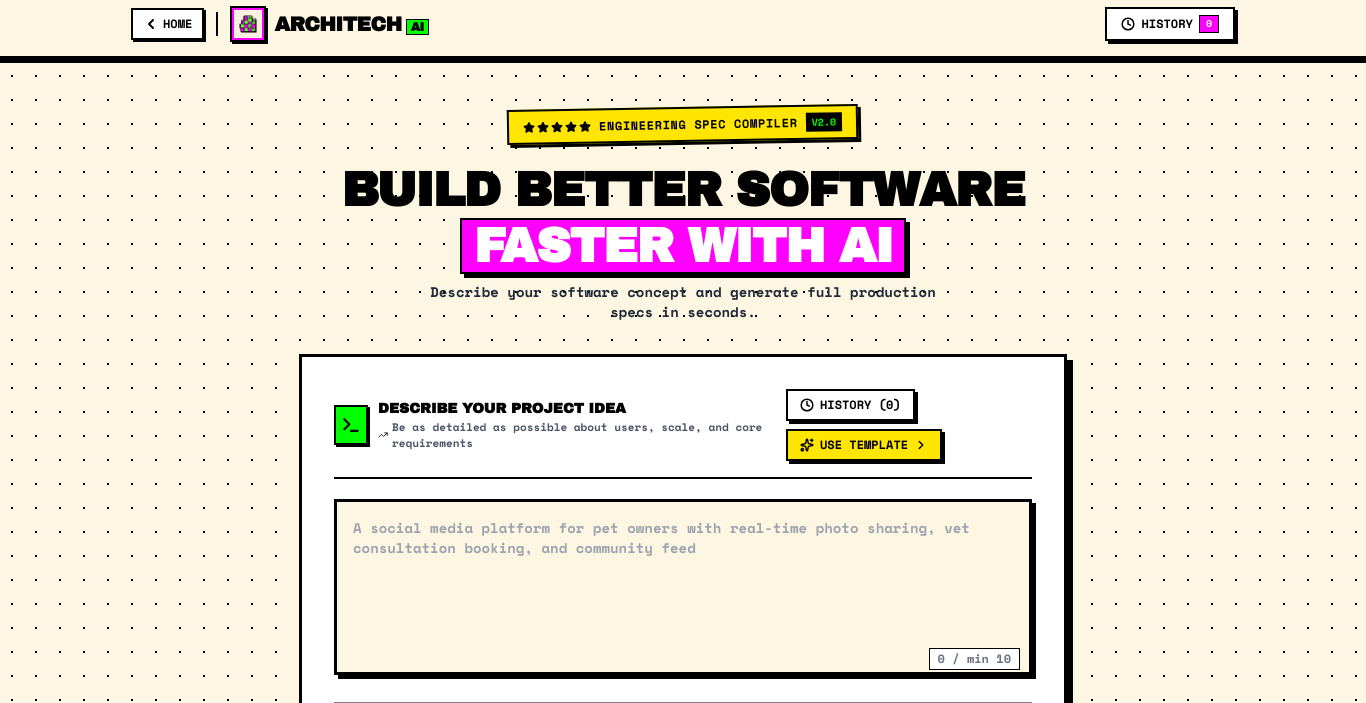
Home Page - Project Idea Input › Error Handling › should re-enable form after error
Replace the text in the text box with placeholder "social media platform" with "A valid project idea with enough characters" at [683, 587], box [334,499,1032,675]
(page scrolled)
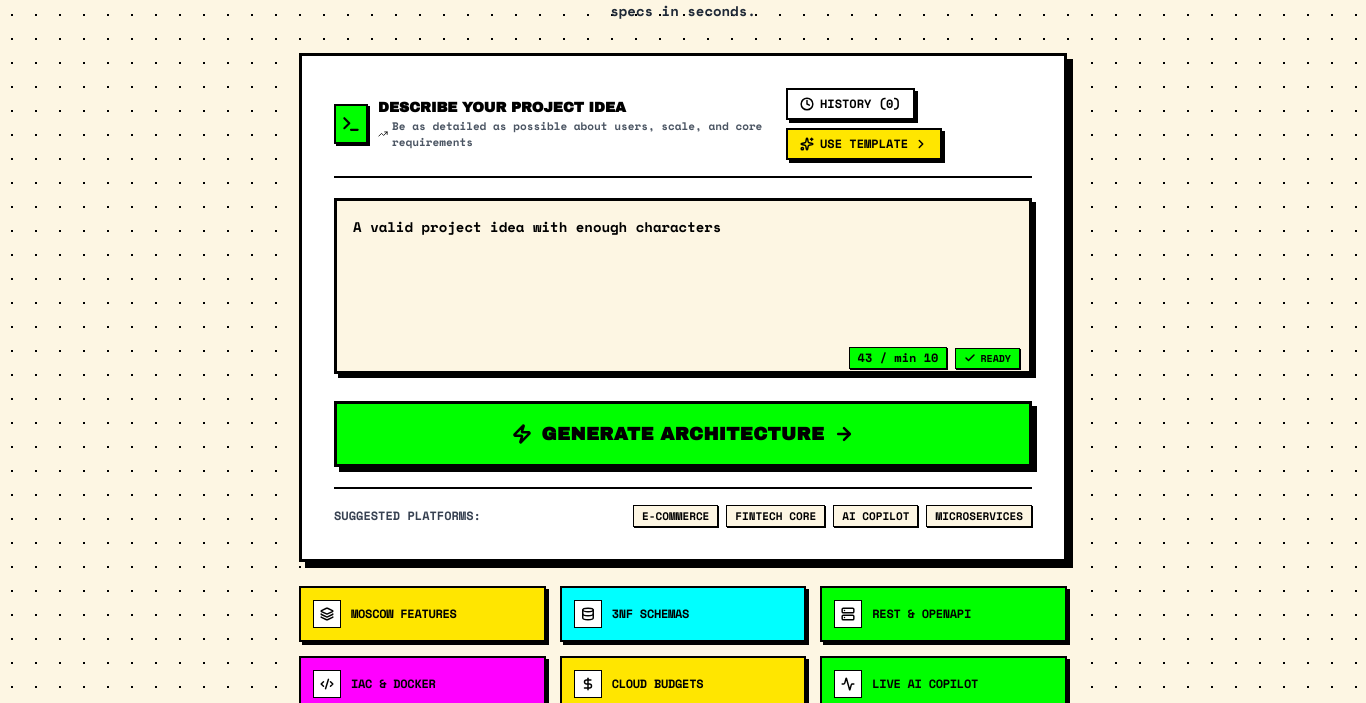
Click the button "GENERATE ARCHITECTURE" at [683, 434], box [334,401,1032,467]
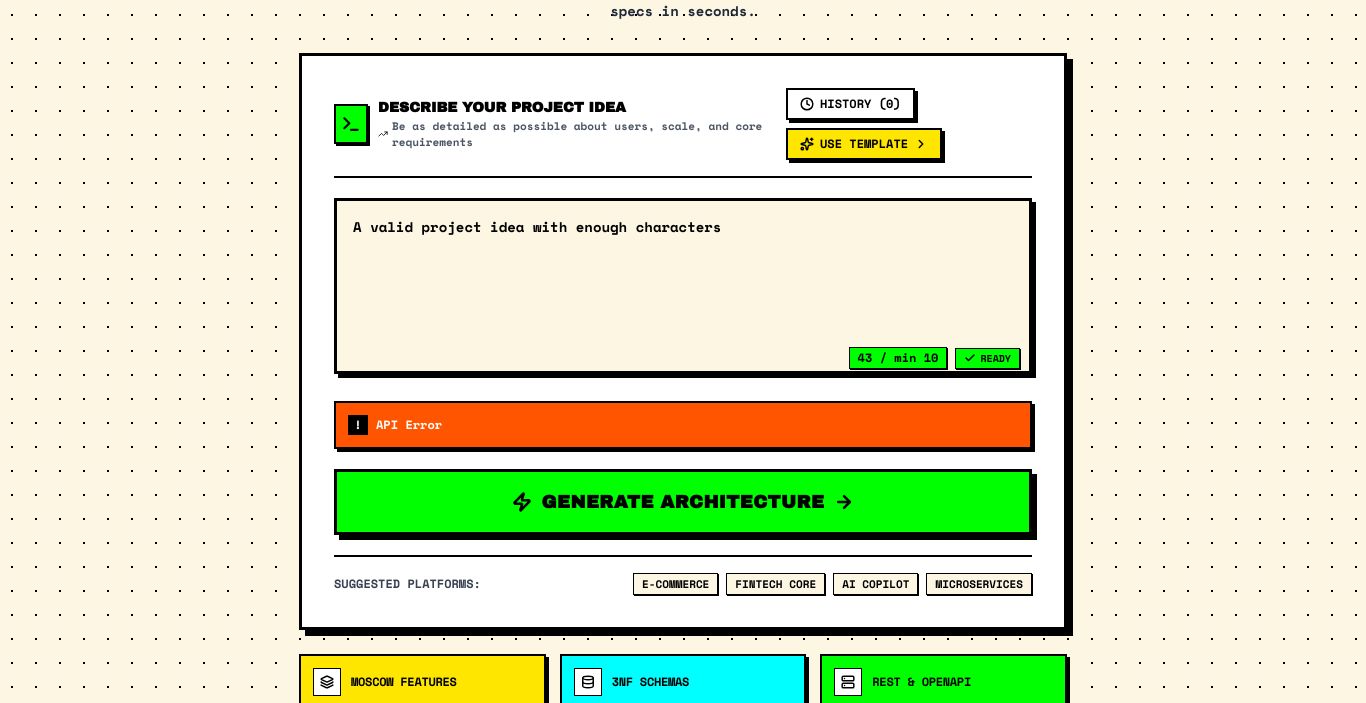
expect the text box with placeholder "social media platform" is enabled: met, box [334,198,1032,374]
expect the button "GENERATE ARCHITECTURE" is enabled: met, box [334,469,1032,535]
expect the text "! API Error" is shown: met, box [334,401,1032,449]
